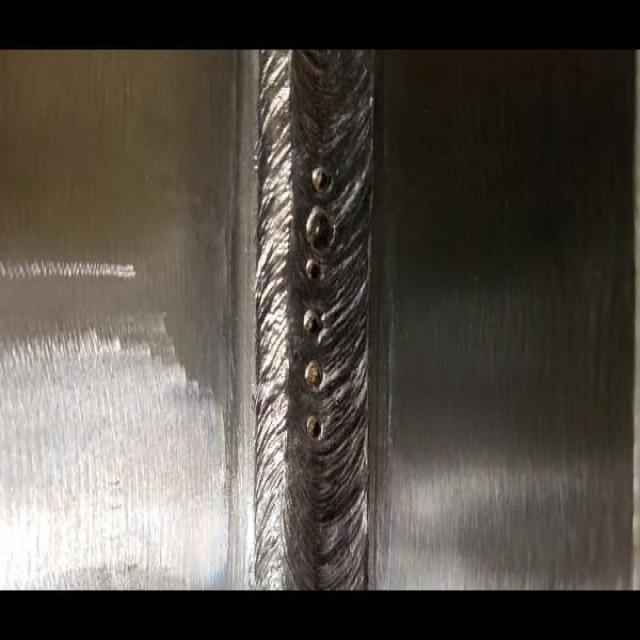Welding Line: (254, 51, 373, 591)
Workpiece: (1, 51, 640, 594)
porosity: (302, 166, 334, 440)
